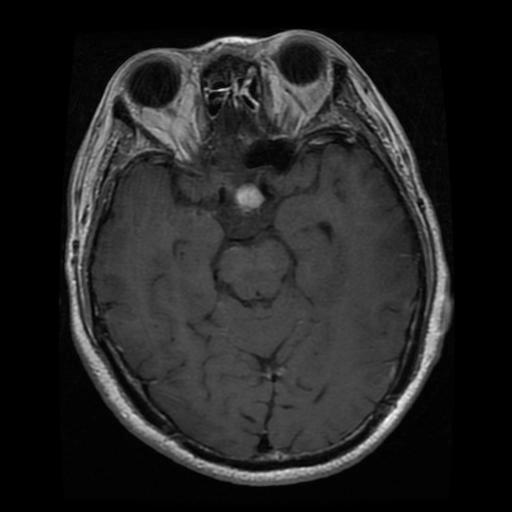Tumour-Pituitary: (222, 175, 279, 215)
